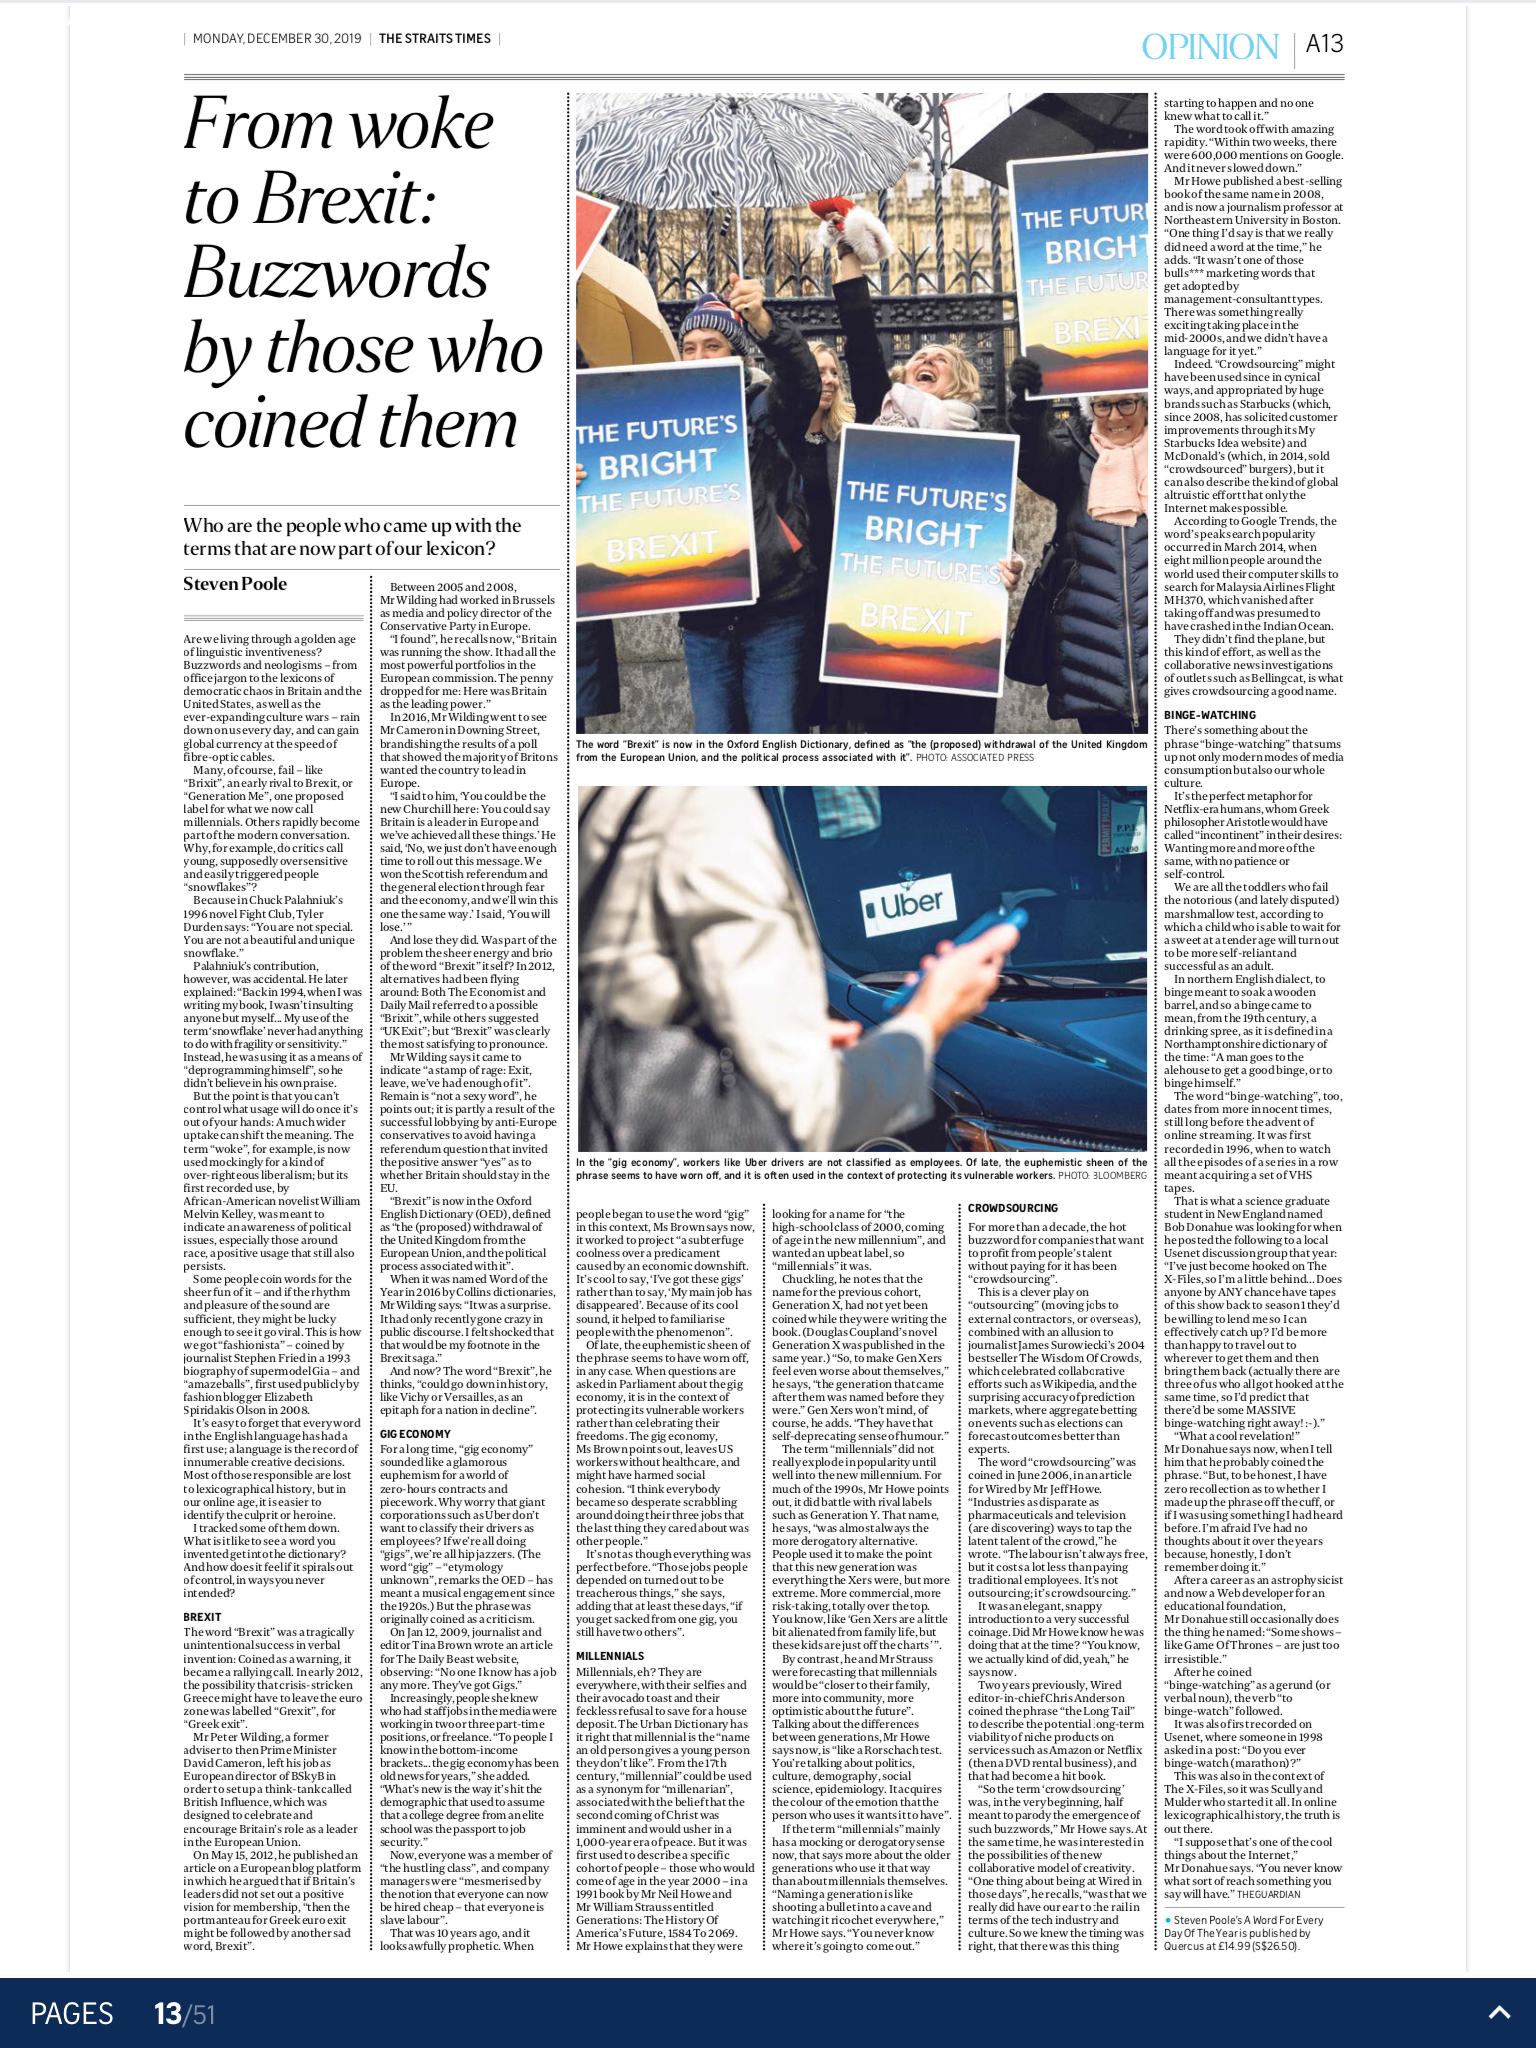Byline: (181, 571, 290, 595)
Headline: (173, 82, 545, 460), (963, 1193, 1081, 1218), (1160, 701, 1271, 726), (568, 1643, 657, 1671), (373, 1419, 458, 1443), (177, 1605, 232, 1629)
Illustration: (573, 1156, 1150, 1185), (574, 737, 1150, 766)
Image: (571, 82, 1155, 734), (581, 787, 1149, 1153)
Text: (1157, 726, 1354, 1904), (177, 627, 361, 1601), (374, 569, 565, 1426), (960, 1214, 1150, 1963), (765, 1200, 950, 1963), (1154, 90, 1362, 701), (378, 1435, 560, 1959), (571, 1201, 757, 1643), (177, 1622, 366, 1967), (571, 1659, 753, 1959), (171, 502, 541, 560)
